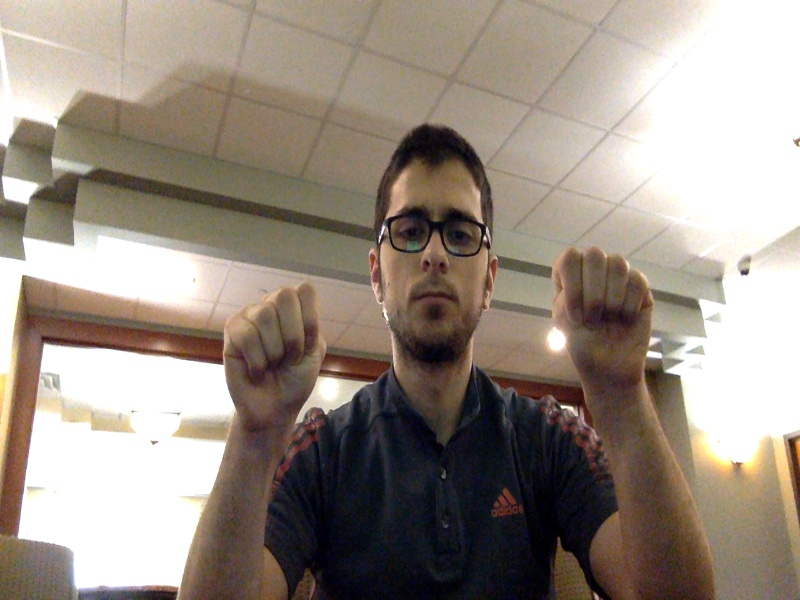0-hand: (550, 246, 653, 385), (224, 286, 325, 427)
